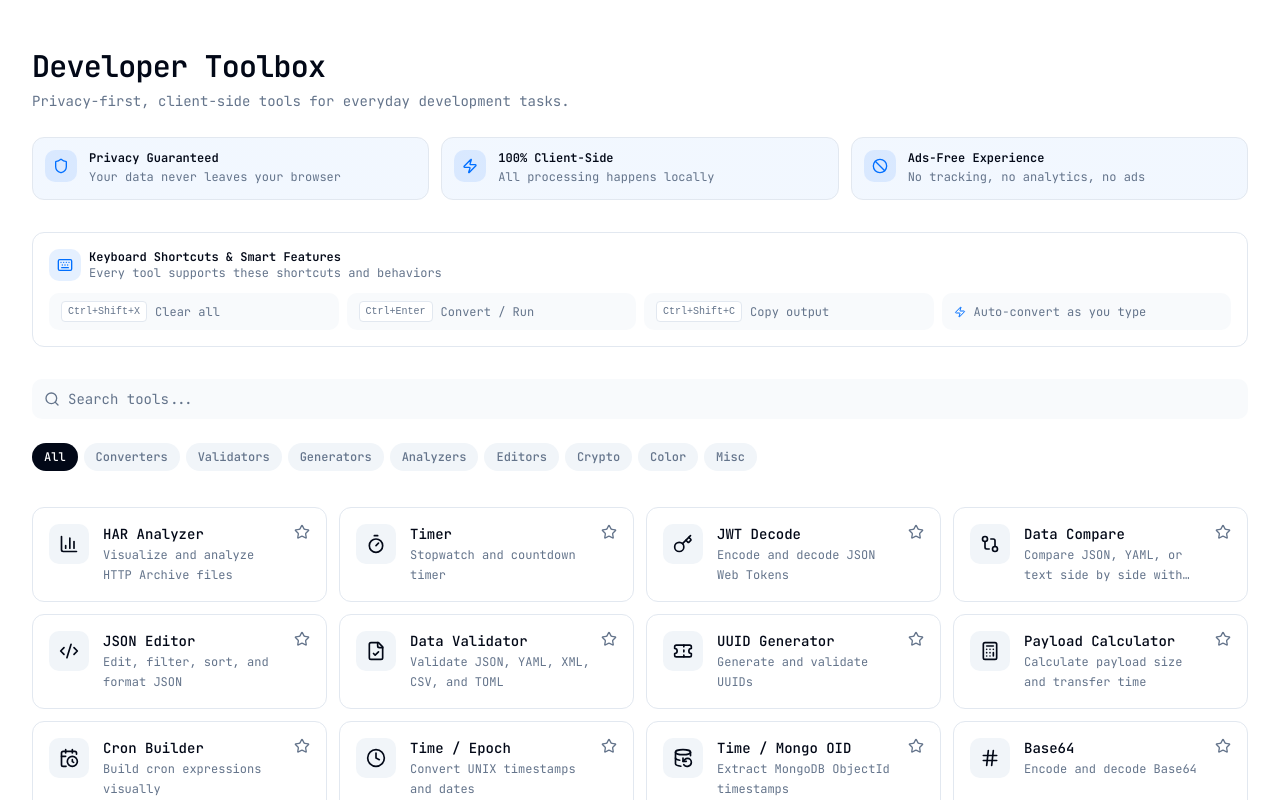
Test: HomePage › search filtering › shows empty state when no tools match
In the search field labelled "Search tools...": (640, 399) [32,379,1248,419], type "xyznonexistent"
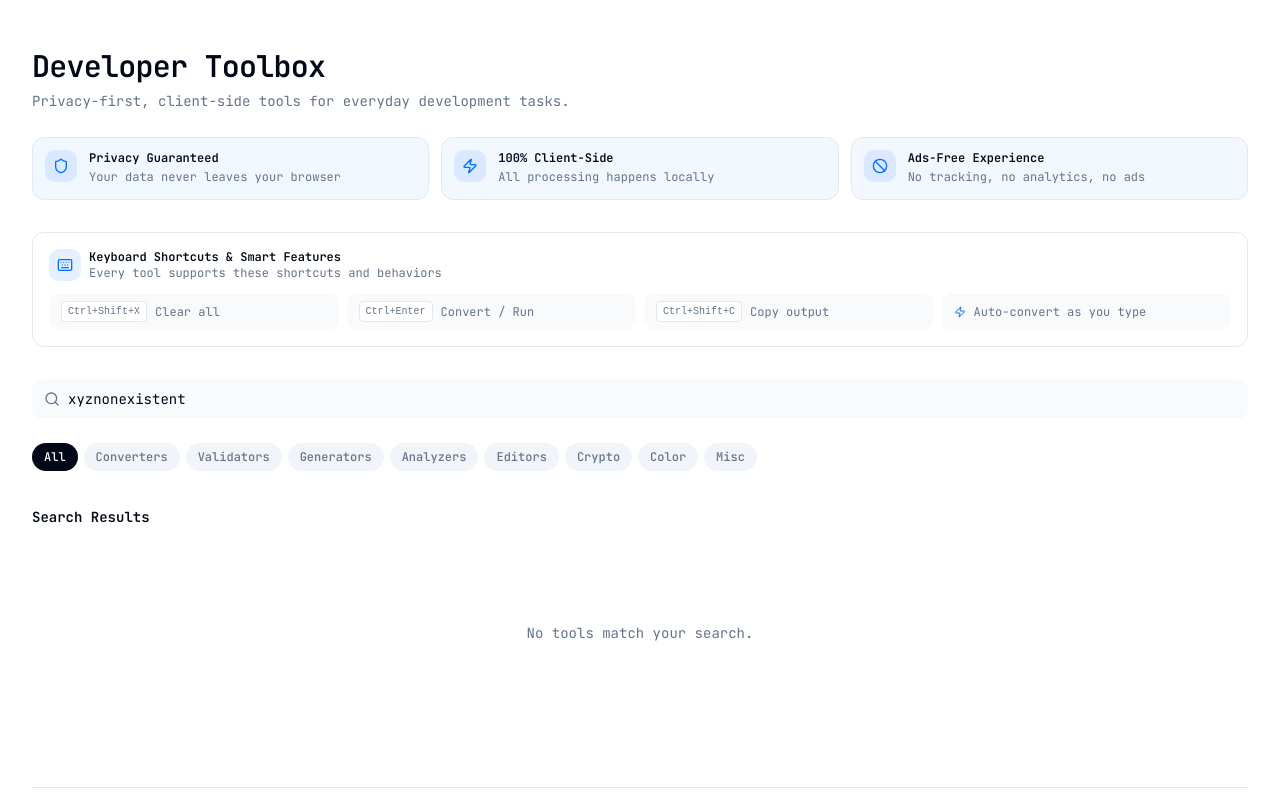
Expected: the text "No tools match your search." is shown, [527,624,753,642]
